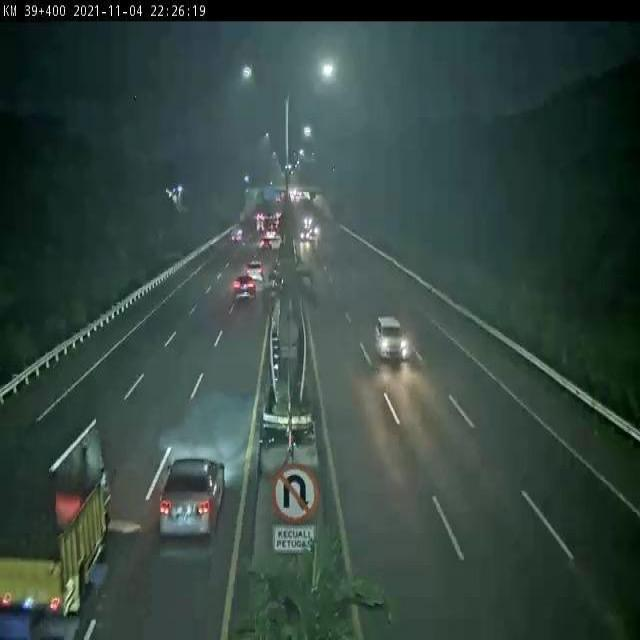car: (158, 459, 226, 539), (373, 315, 411, 363), (232, 272, 254, 301), (247, 259, 264, 285)
truck: (1, 415, 112, 615)
